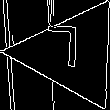L_S: (53, 28, 91, 79)
